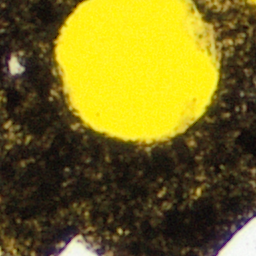air_pores: (54, 0, 220, 144)
cement_matrix: (0, 0, 255, 255), (8, 57, 21, 74)
cracks: (244, 0, 255, 6)
gravel_crushed_stones: (219, 220, 255, 255), (61, 241, 95, 255), (9, 58, 20, 73), (208, 0, 216, 4)
